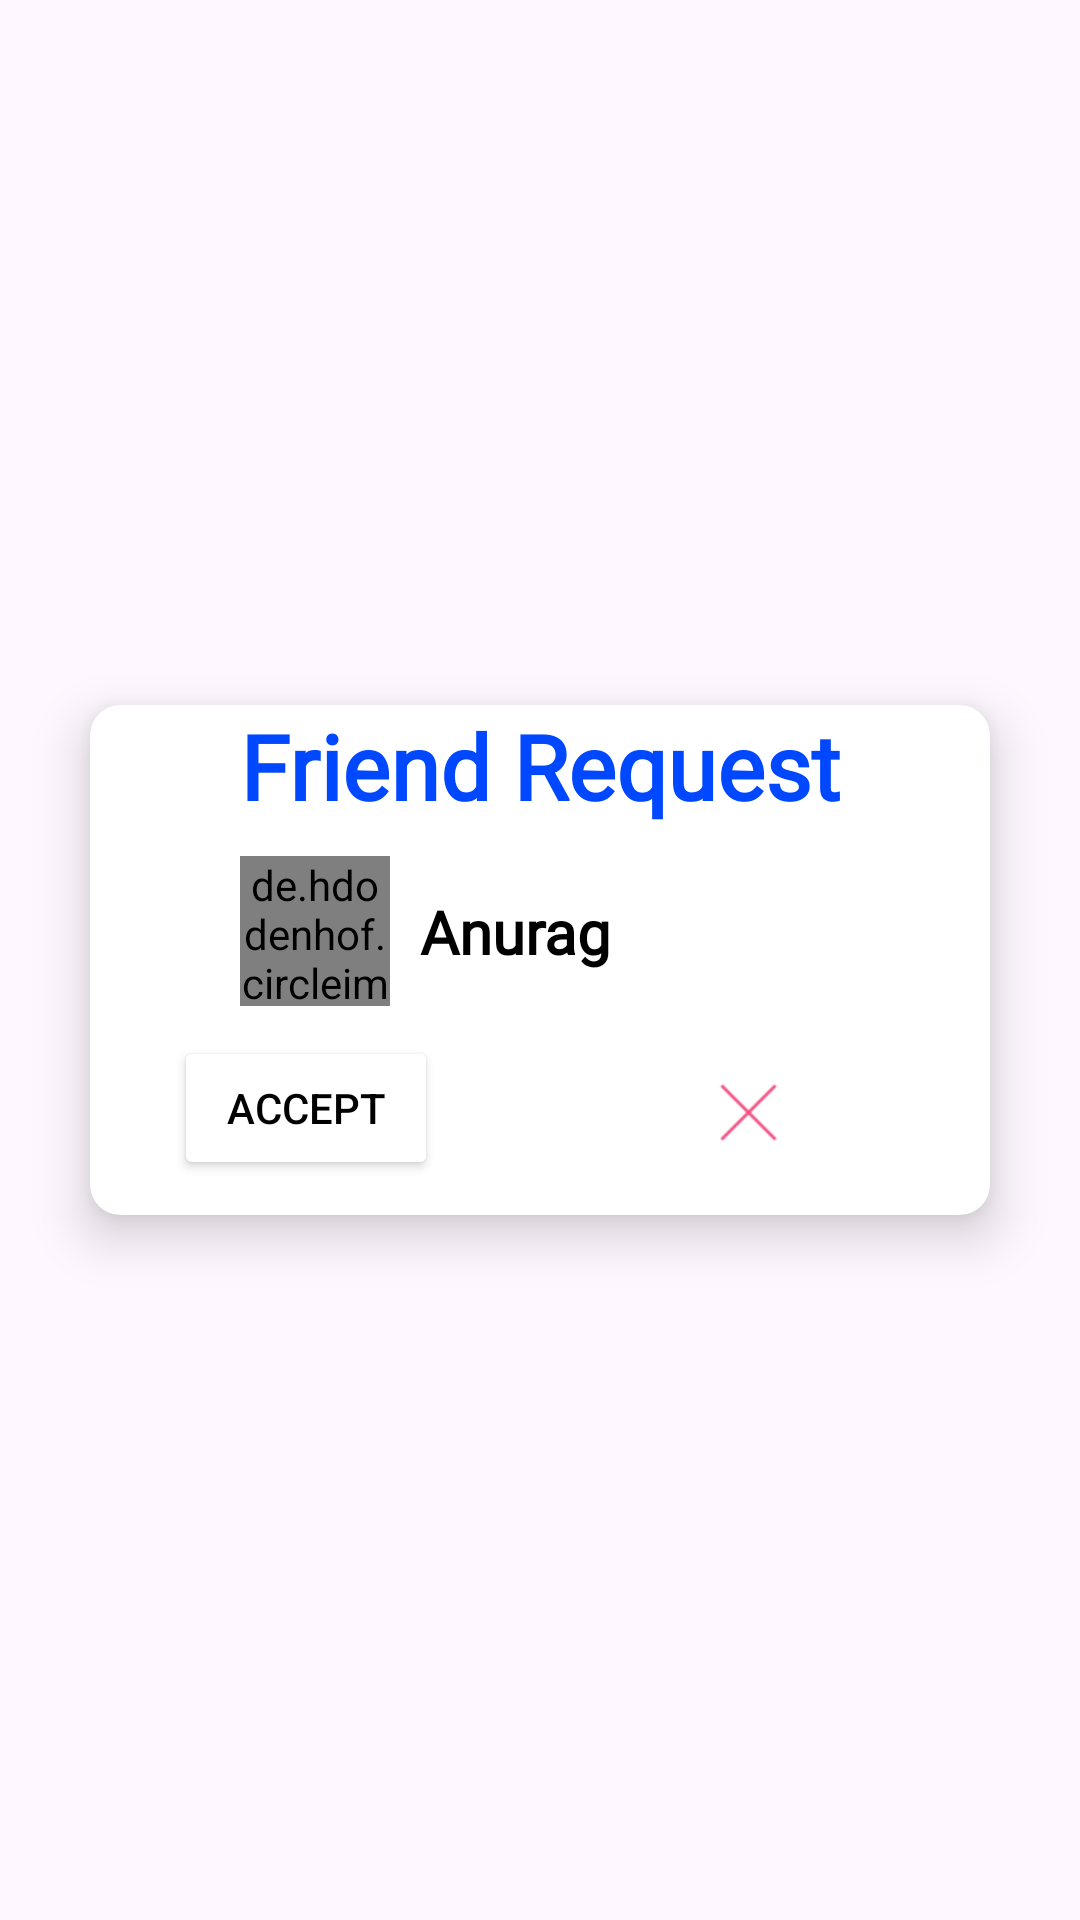

Icon click points for this 1080 x 1920 phone screenshot, format [x,y]:
close: [748,1112]
